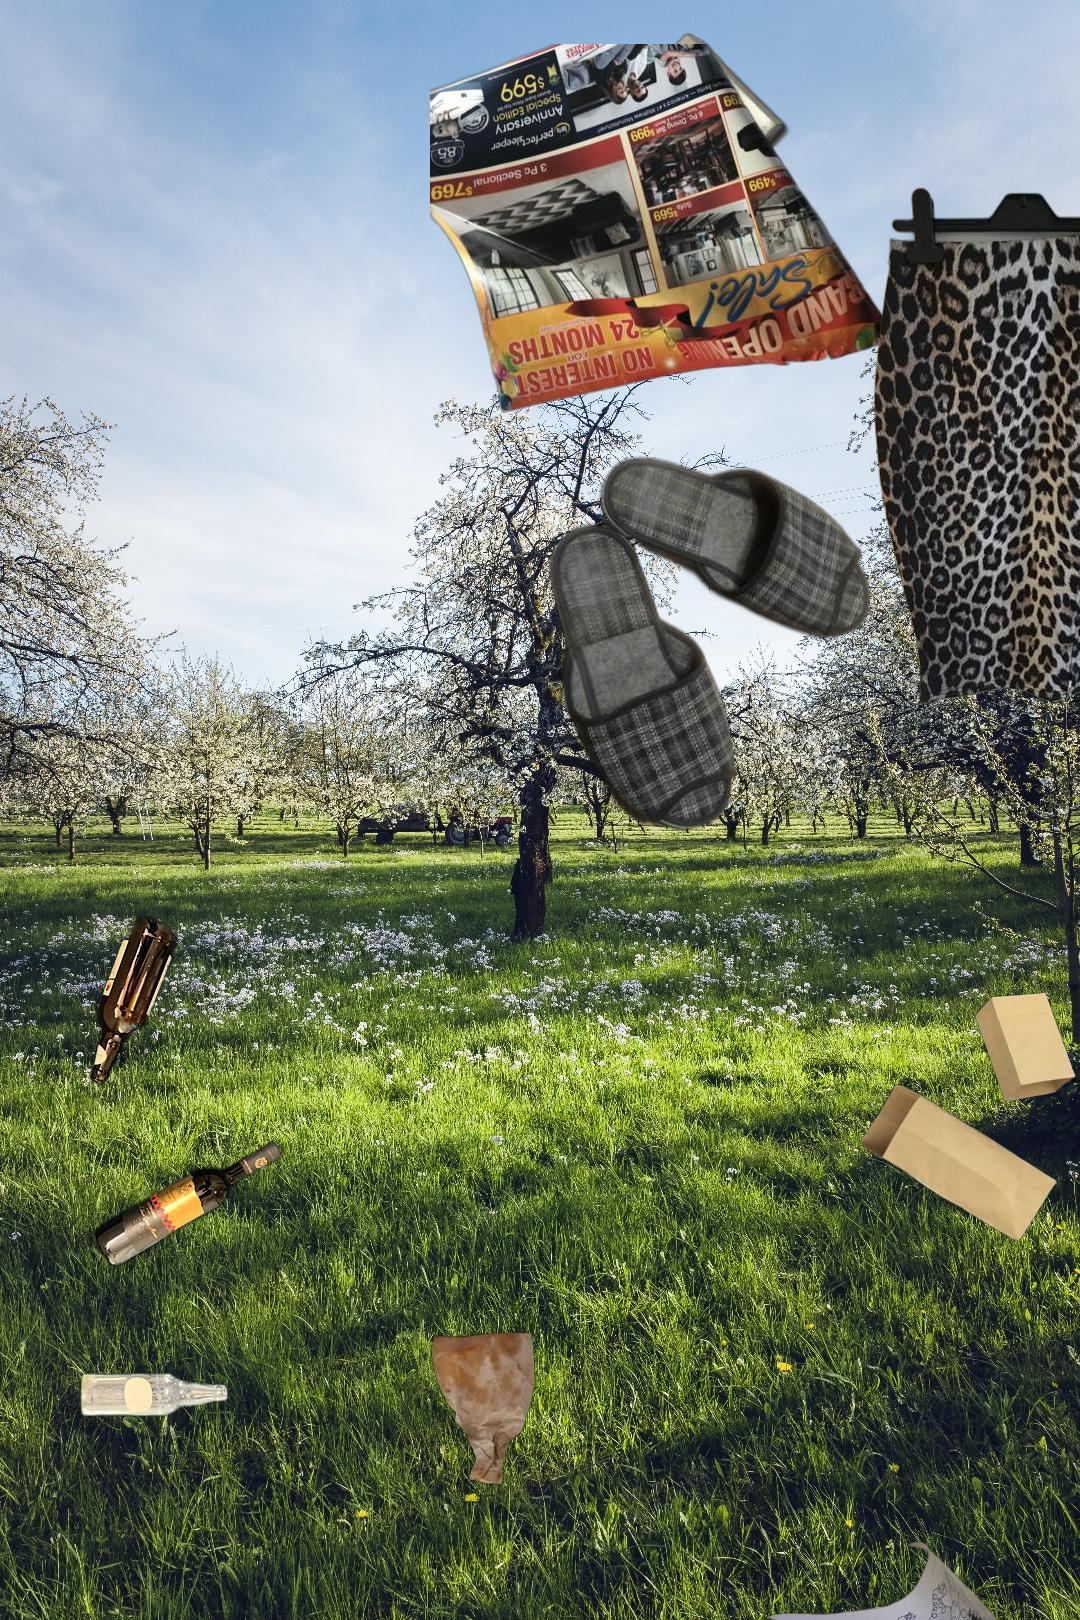clothes: (871, 183, 1080, 708)
glass: (76, 910, 290, 1424)
paper: (430, 45, 896, 415), (553, 30, 793, 281), (763, 1539, 1060, 1620)
paper-bag: (829, 990, 1079, 1245), (334, 1330, 538, 1585)
shoes: (545, 451, 873, 837)
